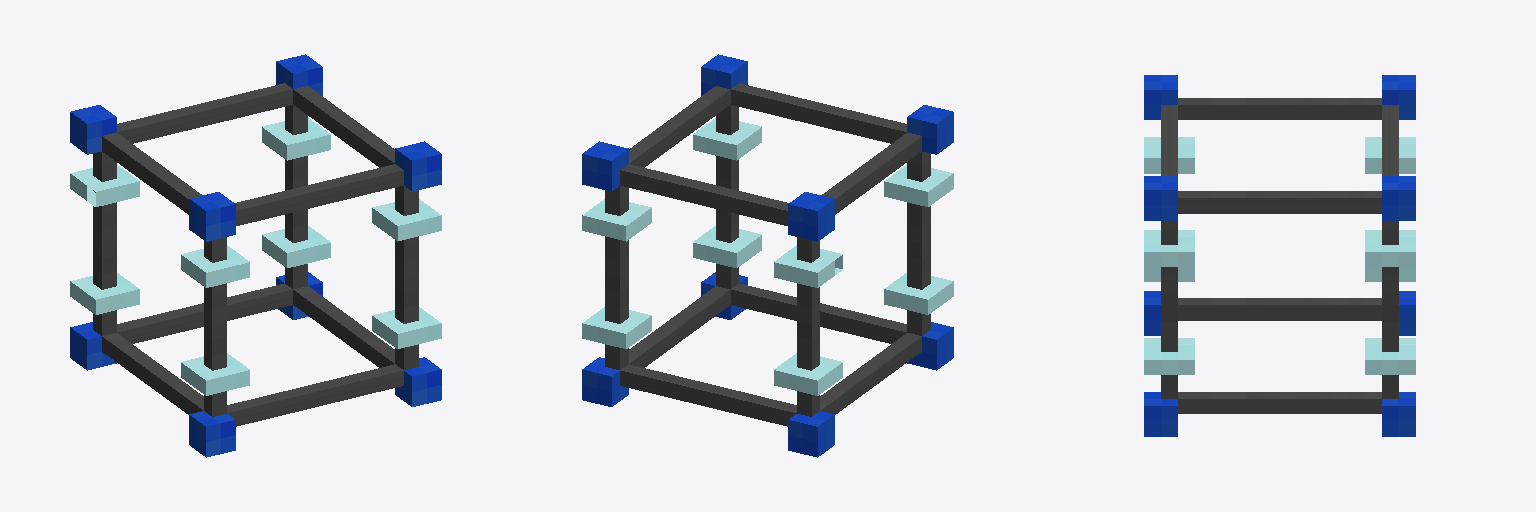
3 views of the same model, side by side, from view 1: azimuth 30°, elevation 25°; view 2: azimuth 150°, elevation 25°; view 3: azimuth 270°, elevation 25° (orthographic).
Parts seen in each view (by area): view 1: cross2, cross1, cross3, cross4, vertSE, vertNW, vertSW, cross8, cross5, cross7, cross6, vertNE (+16 smaller); view 2: cross4, cross3, cross1, cross2, vertNE, vertSW, vertNW, cross8, cross5, cross7, cross6, vertSE (+16 smaller); view 3: cross5, cross7, cross6, cross8, vertNE, vertSE, disk2, disk4, disk6, disk8, corner6, corner8 (+10 smaller).
Part boxes in pixels (bbox=[...]): cross2: bbox=[227, 364, 403, 426]; cross1: bbox=[117, 83, 292, 143]; cross3: bbox=[235, 164, 403, 225]; cross4: bbox=[117, 283, 292, 343]; vertSE: bbox=[395, 186, 418, 369]; vertNW: bbox=[93, 152, 116, 335]; vertSW: bbox=[204, 237, 226, 416]; cross8: bbox=[293, 286, 394, 367]; cross5: bbox=[102, 333, 203, 414]; cross7: bbox=[293, 86, 394, 167]; cross6: bbox=[102, 132, 202, 214]; vertNE: bbox=[285, 105, 307, 289]; cross4: bbox=[620, 364, 796, 426]; cross3: bbox=[731, 83, 906, 143]; cross1: bbox=[620, 164, 788, 225]; cross2: bbox=[731, 283, 906, 343]; vertNE: bbox=[605, 186, 628, 369]; vertSW: bbox=[907, 152, 930, 335]; vertNW: bbox=[797, 237, 819, 416]; cross8: bbox=[629, 286, 730, 367]; cross5: bbox=[820, 333, 921, 414]; cross7: bbox=[629, 86, 730, 167]; cross6: bbox=[821, 132, 921, 214]; vertSE: bbox=[716, 105, 738, 289]; cross5: bbox=[1178, 298, 1381, 320]; cross7: bbox=[1178, 191, 1381, 213]; cross6: bbox=[1178, 98, 1381, 119]; cross8: bbox=[1178, 392, 1381, 413]; vertNE: bbox=[1382, 221, 1398, 398]; vertSE: bbox=[1161, 221, 1177, 398]; disk2: bbox=[1365, 338, 1415, 374]; disk4: bbox=[1144, 338, 1194, 374]; disk6: bbox=[1365, 230, 1415, 266]; disk8: bbox=[1144, 230, 1194, 266]; corner6: bbox=[1382, 176, 1415, 220]; corner8: bbox=[1144, 176, 1177, 220].
Size of the model in its own units: 1 by 1 by 1.
Materials: 1 (1 with a texture image).